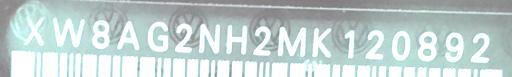letter: (49, 15, 87, 50), (272, 24, 308, 57), (20, 14, 48, 51), (142, 19, 170, 54), (112, 18, 142, 49), (465, 30, 493, 63), (308, 25, 334, 60), (360, 27, 386, 62), (386, 28, 412, 63), (413, 28, 439, 63), (439, 29, 465, 64), (195, 22, 223, 53), (334, 27, 360, 60), (88, 16, 112, 49), (172, 21, 196, 54), (224, 24, 248, 53), (250, 24, 272, 55)
